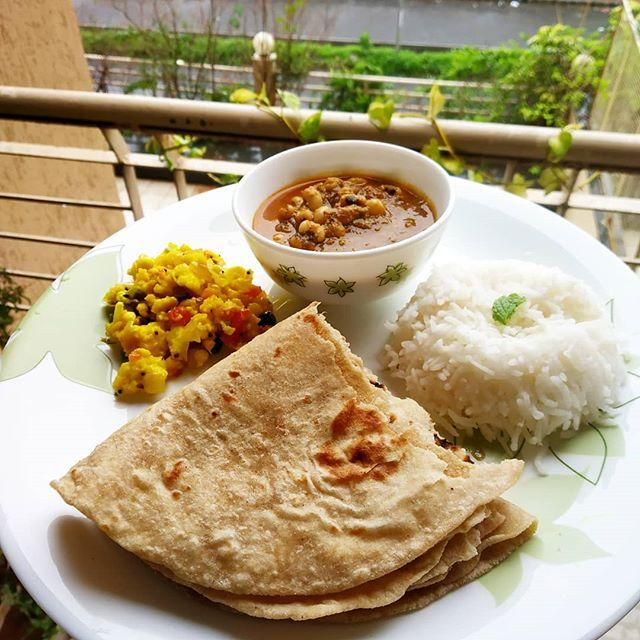Roti: (59, 330, 502, 600)
White Rice: (405, 260, 627, 434)
